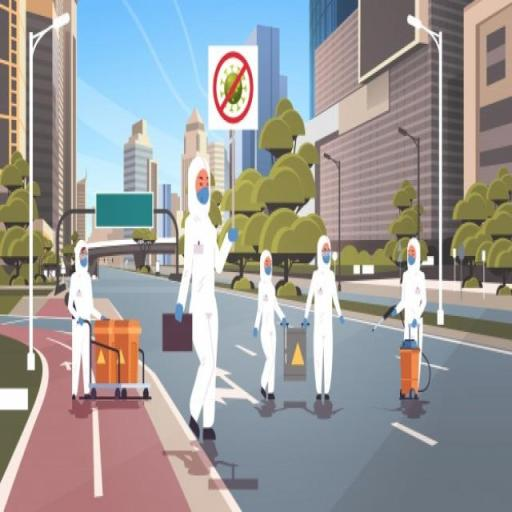person: (178, 156, 239, 444), (305, 232, 347, 406), (67, 239, 106, 402), (392, 234, 430, 400), (253, 250, 290, 402)
